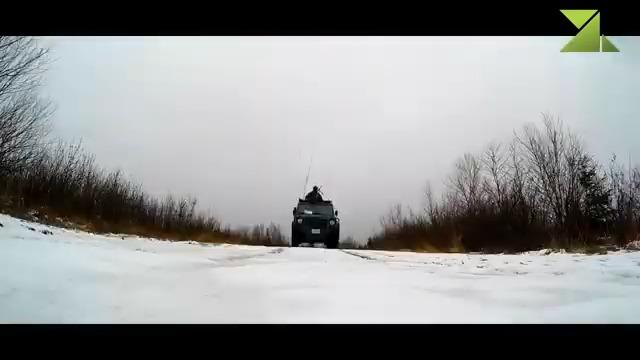MIL_HMMWV: (290, 200, 340, 246), (305, 186, 322, 200)
